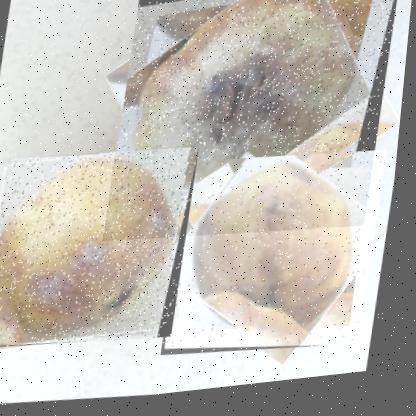guava_rotten: (106, 0, 404, 257), (166, 148, 391, 370), (0, 140, 203, 358)
